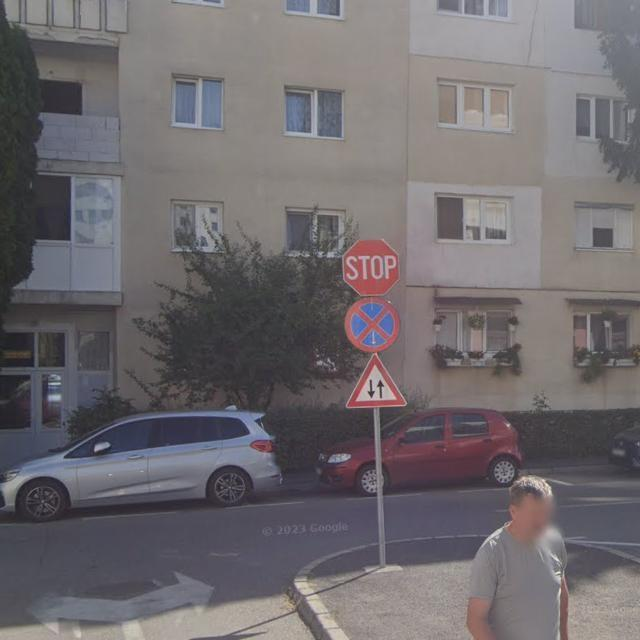forb_waiting: (344, 299, 400, 353)
prio_stop: (343, 238, 401, 298)
